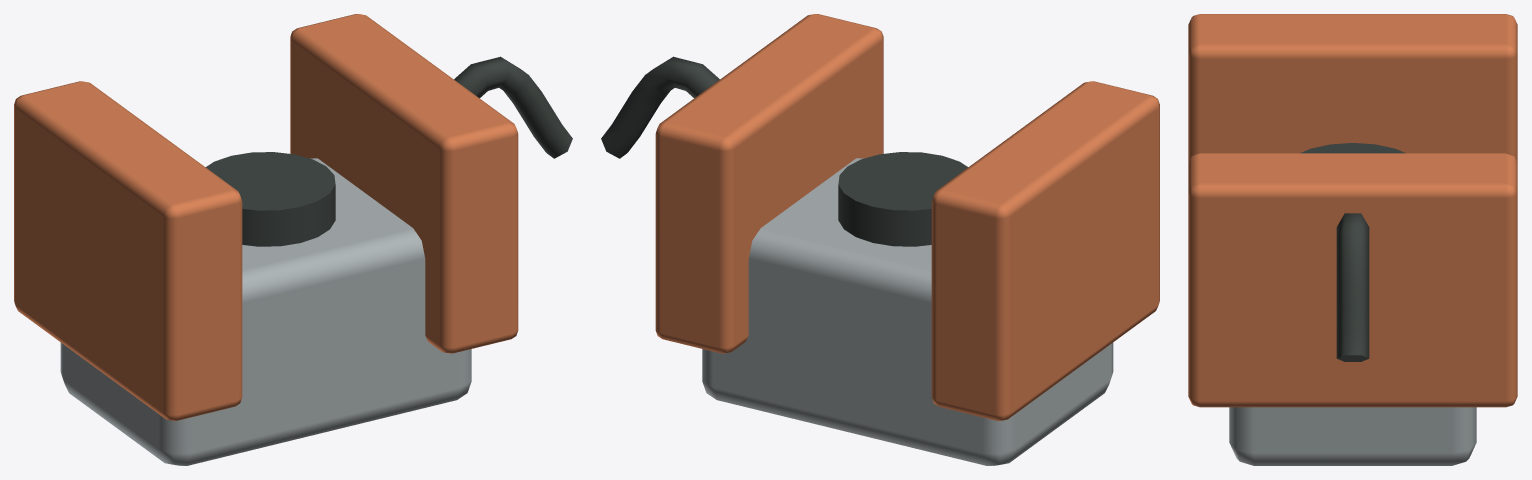
The model's file is survivor-vehicle-maintenance-brake-caliper-285dcd6c__26633.glb.
3 renders of one model, left to right at view 1: azimuth 30°, elevation 25°; view 2: azimuth 150°, elevation 25°; view 3: azimuth 270°, elevation 25°, orthographic. The views are drawn at different scales.
Parts seen in each view (by area): view 1: brake-caliper; view 2: brake-caliper; view 3: brake-caliper.
Part boxes in pixels (left/top/right/bottom): brake-caliper: left=14, top=14, right=572, bottom=465; brake-caliper: left=601, top=14, right=1159, bottom=465; brake-caliper: left=1188, top=14, right=1517, bottom=465.
Bounding box in the file's own units: 0.2779 × 0.16 × 0.16.
